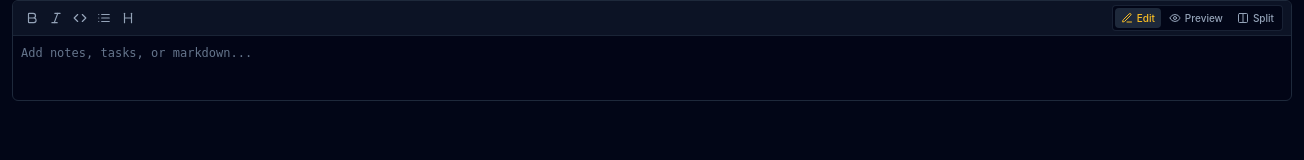
MarkdownEditor Component › 2. Markdown Toolbar Formatting Buttons › applies Bold formatting (**text**) on button click
This screenshot has width=1304, height=160.
Click the button with test id "md-btn-bold": (32,18) [21,7,43,29]
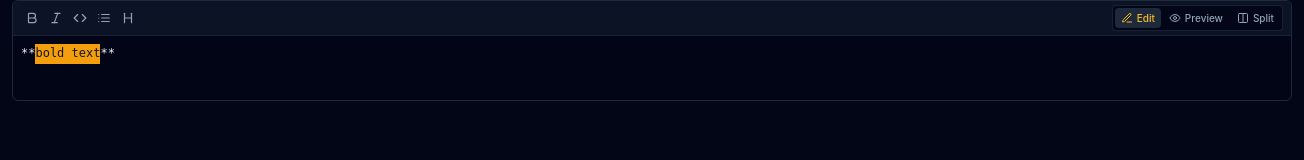
Expected: the text box with test id "markdown-textarea" holds "**bold text**", [13,36,1291,100]
